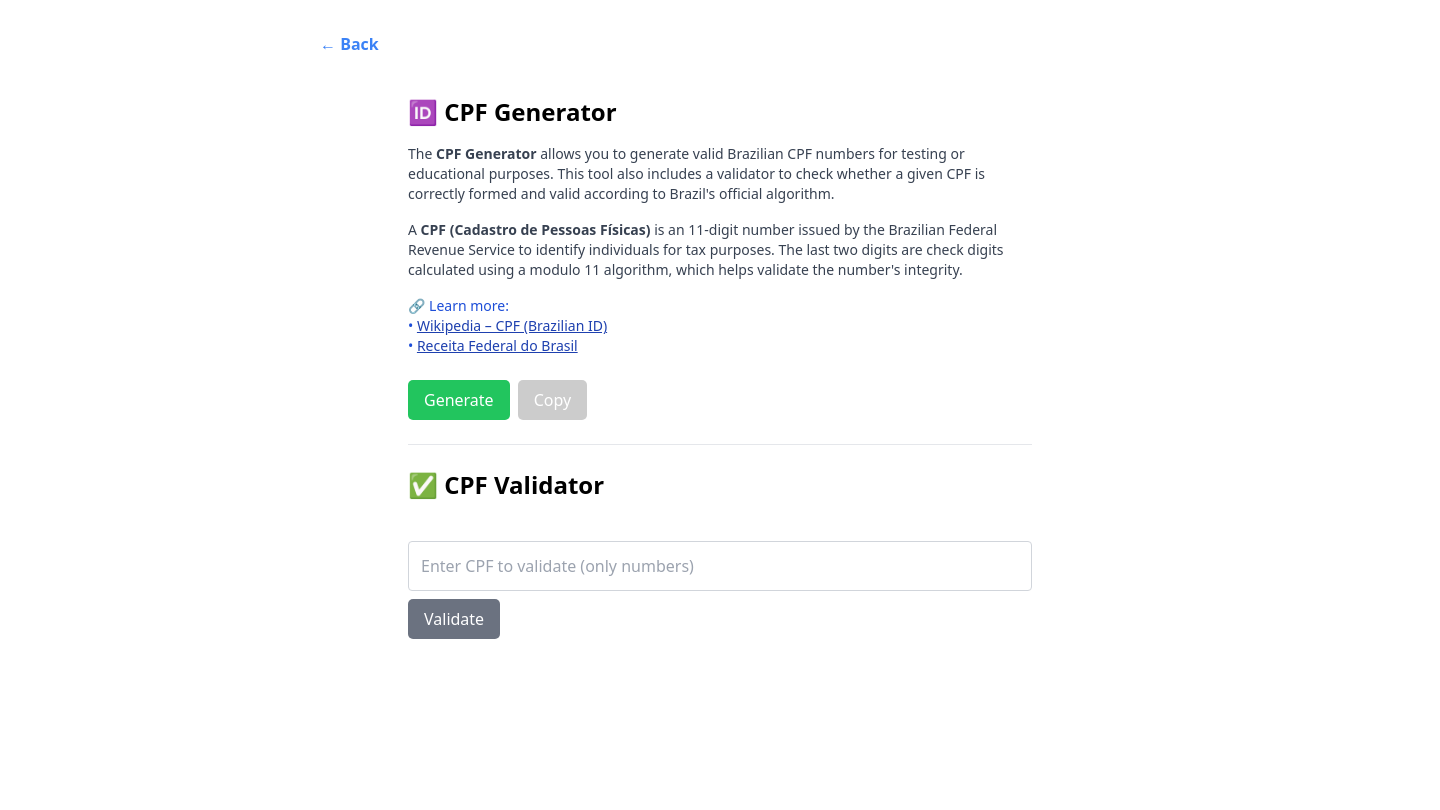
it: CpfGenerator › generates a valid CPF
The image size is (1440, 810).
Click the button "Generate": (459, 400) x1=408 y1=380 x2=510 y2=420
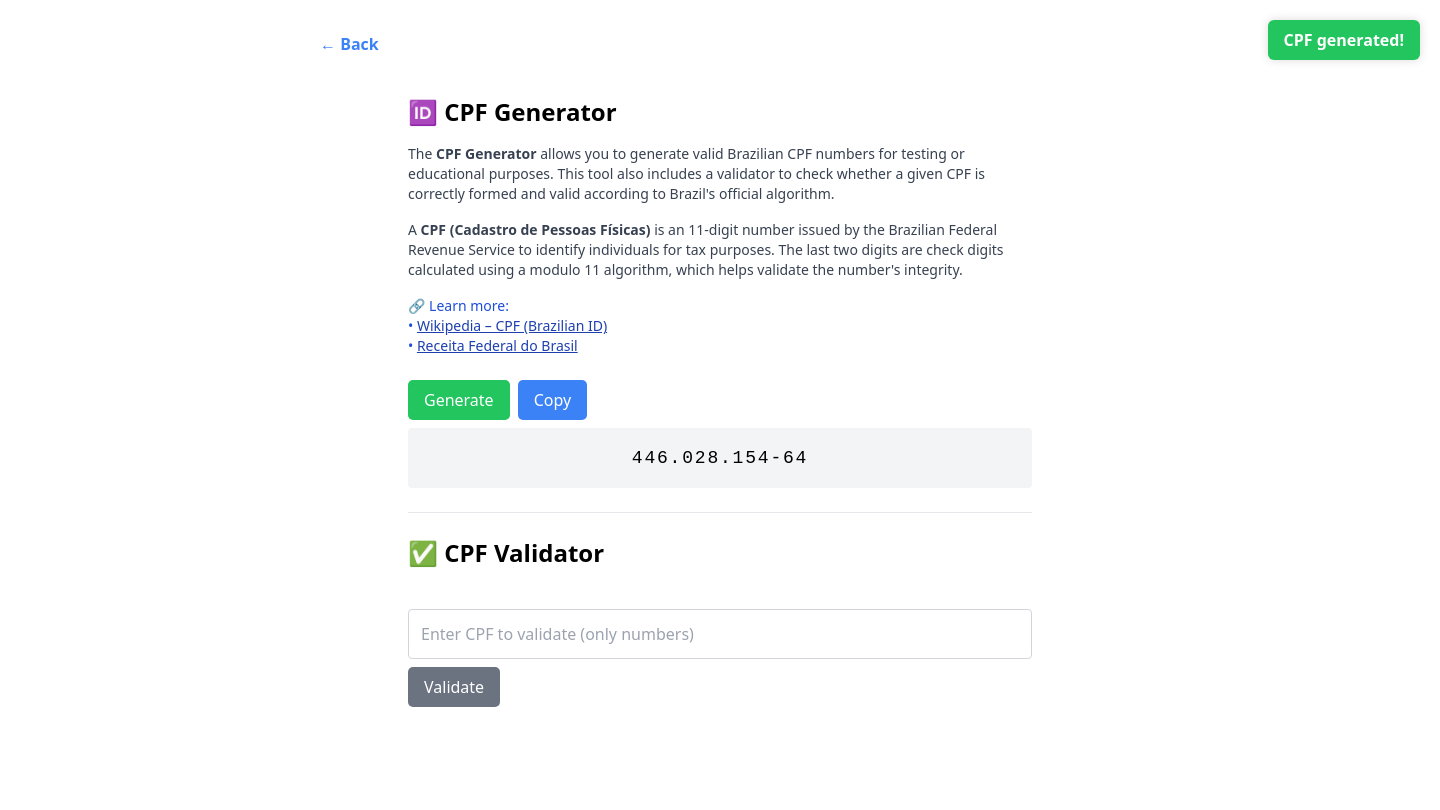
Result: the text "446.028.154-64" is shown at x1=632 y1=448 x2=808 y2=468
